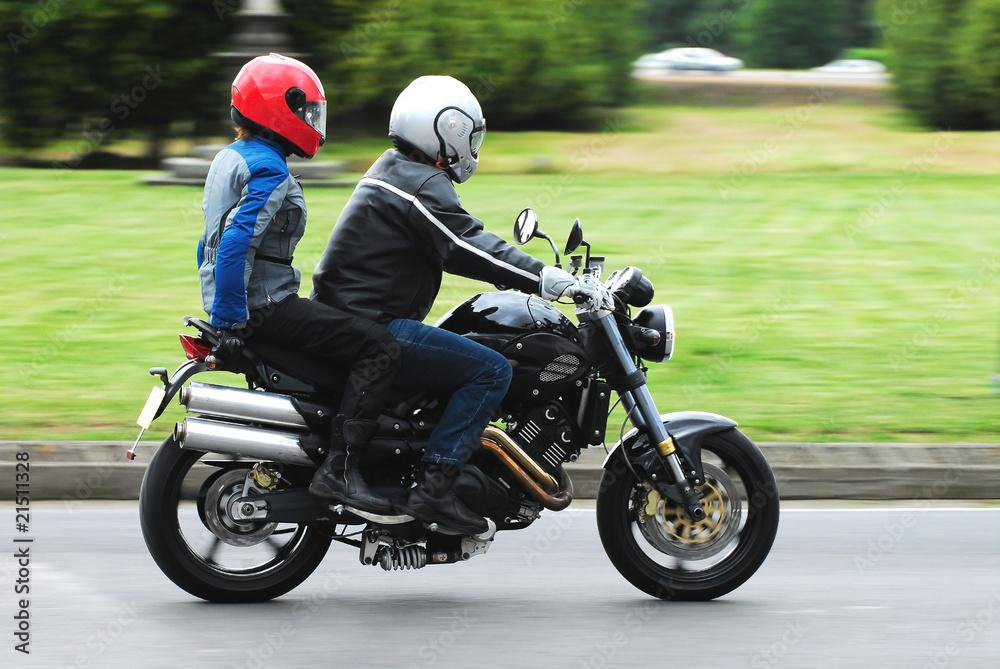helmet: (388, 74, 487, 185), (230, 52, 328, 161)
